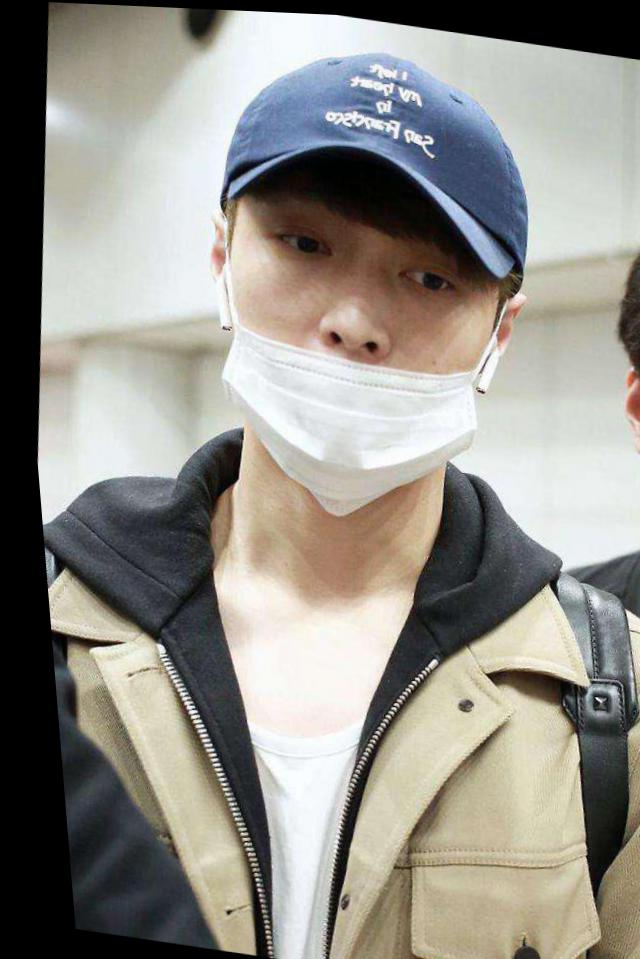WRONG: (193, 153, 512, 509)
